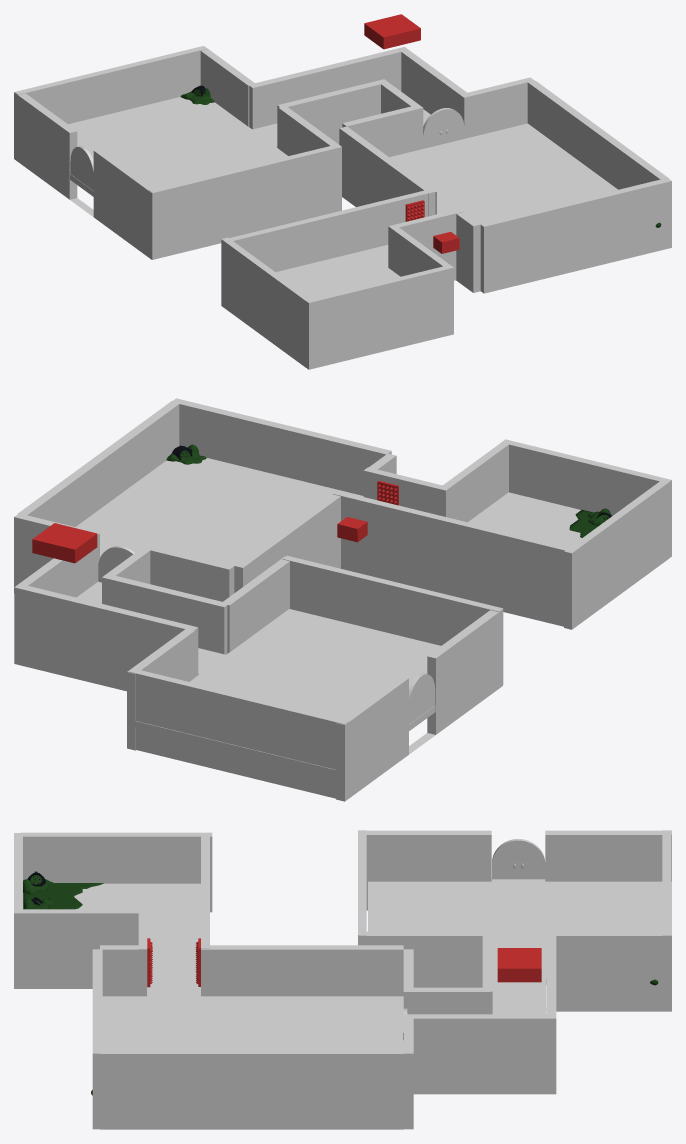
The model's file is map leyout prot 2.fbx.
3 renders of one model, top to bottom at view 1: azimuth 30°, elevation 25°; view 2: azimuth 150°, elevation 25°; view 3: azimuth 270°, elevation 25°, orthographic. The views are drawn at different scales.
Visible parts, largest first — view 1: Cube_11, Cube_20, Cube_2, Cube_5, Cube_9, Cube_21, Cube_6, Cube_22, Cube_7, Cube_13, Cube_14, Cube_12 (+11 smaller); view 2: Cube_6, Cube_5, Cube_2, Cube_22, Cube_21, Cube_15, Cube_11, Cube_20, Cube_7, Cube_12, Cube_9, Cube_17 (+10 smaller); view 3: Cube_12, Cube_5, Cube_2, Cube_17, Cube_21, Cube_13, Cube_18, Cube_7, Cube_8, Cube, Cube_19, Cube_1 (+14 smaller).
Boxes of the visible parts, <box> form: Cube_11: <box>480,178,671,293</box>; Cube_20: <box>149,144,341,259</box>; Cube_2: <box>389,123,617,223</box>; Cube_5: <box>68,97,287,196</box>; Cube_9: <box>305,265,453,369</box>; Cube_21: <box>14,92,155,259</box>; Cube_6: <box>228,189,435,271</box>; Cube_22: <box>14,46,206,124</box>; Cube_7: <box>221,237,312,367</box>; Cube_13: <box>339,126,480,292</box>; Cube_14: <box>342,77,534,157</box>; Cube_12: <box>527,80,669,189</box>; Cube_6: <box>333,490,573,626</box>; Cube_5: <box>135,609,440,776</box>; Cube_2: <box>76,458,363,565</box>; Cube_22: <box>128,668,349,798</box>; Cube_21: <box>336,609,502,801</box>; Cube_15: <box>23,586,198,691</box>; Cube_11: <box>171,398,391,495</box>; Cube_20: <box>282,555,503,684</box>; Cube_7: <box>564,481,668,629</box>; Cube_12: <box>18,401,179,526</box>; Cube_9: <box>501,439,671,558</box>; Cube_17: <box>127,556,289,750</box>; Cube_12: <box>100,1049,403,1129</box>; Cube_5: <box>368,878,671,984</box>; Cube_2: <box>102,996,403,1049</box>; Cube_17: <box>359,931,671,1011</box>; Cube_21: <box>366,830,671,910</box>; Cube_13: <box>100,945,403,996</box>; Cube_18: <box>407,1014,556,1094</box>; Cube_7: <box>20,832,212,912</box>; Cube_8: <box>23,909,147,988</box>; Cube: <box>74,883,200,955</box>; Cube_19: <box>408,987,489,1014</box>; Cube_1: <box>147,956,200,996</box>.
Size of the model in its own units: 4249 by 1071 by 5297.
